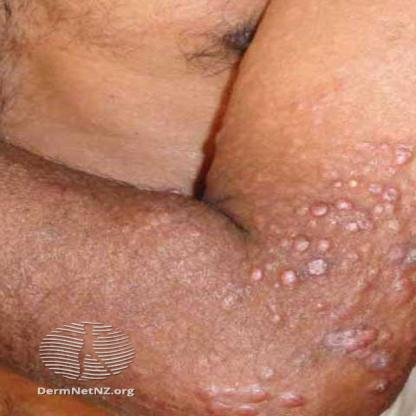Hansen-s Disease-Leprosy: (262, 176, 376, 296), (326, 321, 397, 402), (192, 377, 322, 409)
